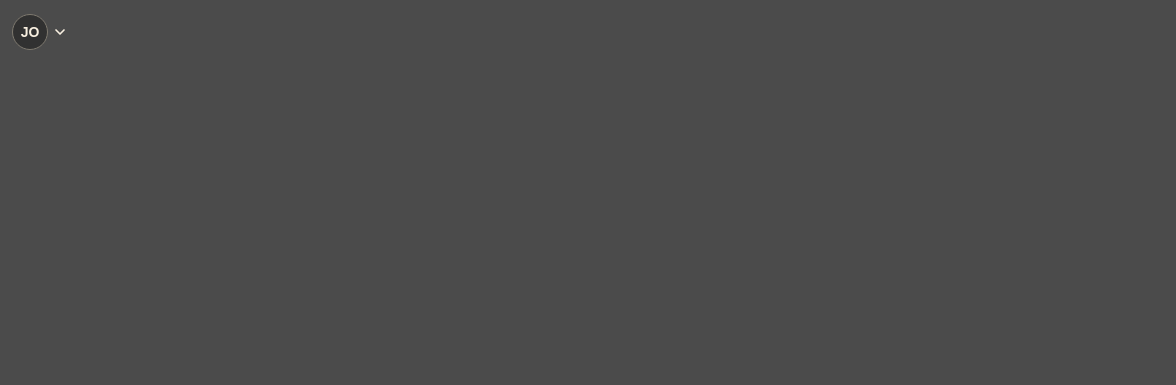
Test case: AccountMenu › closes the dropdown on Escape and returns focus to the trigger
The width and height of the screenshot is (1176, 385).
Step 1. Click the button with aria-label "account menu for jack" → (40, 32), box [12,12,68,52]
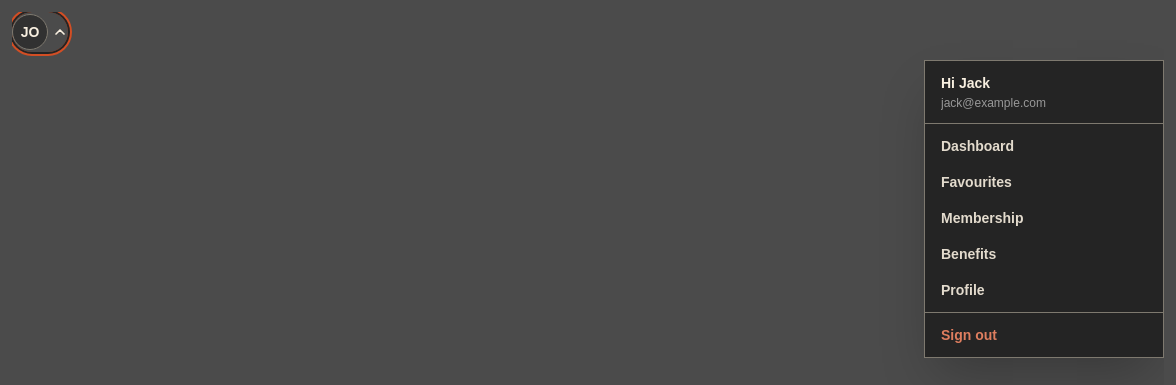
expect the menu is shown: met, box [924,60,1164,358]
Step 2. Press Escape
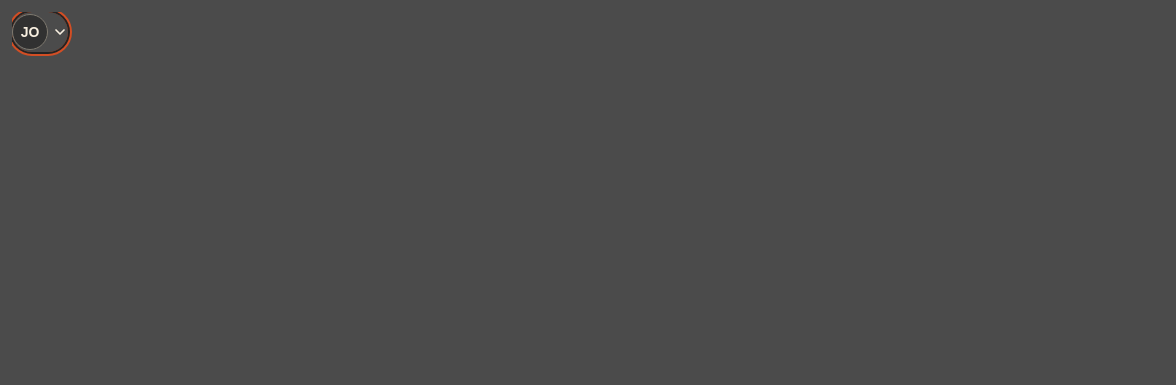
expect the menu is gone: met
